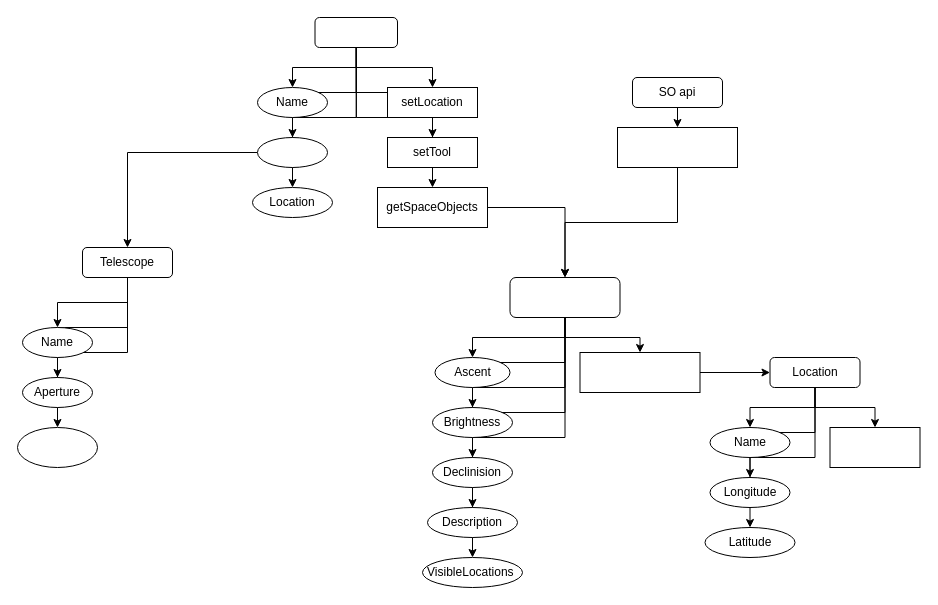
This 938x605 diagram has some shape labels left out. The centre of each missing label's shape, as x and y in pixels:
checkVisibility -> bool: the point at 874,447
FocalLength: the point at 57,447
getSpaceObjects -> List<Locations>: the point at 677,147
getVisibleLocations -> List<Locations>: the point at 639,372
SpaceObject: the point at 564,297
Tool: the point at 292,152
User: the point at 356,32
